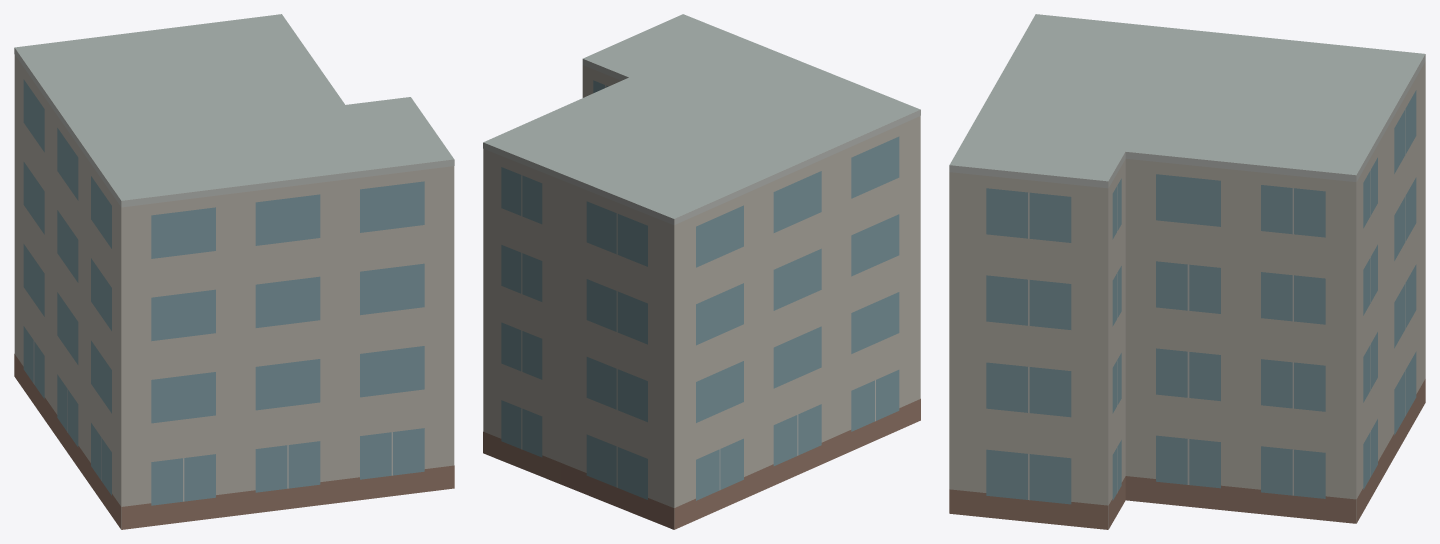
File: residential-701a6806-7b42-4e19-8cda-ff701b9be158.glb
3 views of the same model, side by side, from view 1: azimuth 30°, elevation 25°; view 2: azimuth 150°, elevation 25°; view 3: azimuth 270°, elevation 25° (orthographic). The views are drawn at different scales.
Visible parts, largest first — view 1: residential-701a6806-7b42-4e19-8cda-ff701b9be158.tmp; view 2: residential-701a6806-7b42-4e19-8cda-ff701b9be158.tmp; view 3: residential-701a6806-7b42-4e19-8cda-ff701b9be158.tmp.
Part boxes in pixels (<box>): residential-701a6806-7b42-4e19-8cda-ff701b9be158.tmp: <box>14,14,454,529</box>; residential-701a6806-7b42-4e19-8cda-ff701b9be158.tmp: <box>483,14,920,529</box>; residential-701a6806-7b42-4e19-8cda-ff701b9be158.tmp: <box>949,14,1425,529</box>.
Size of the model in its own units: 12.57 by 12.2 by 15.12.
